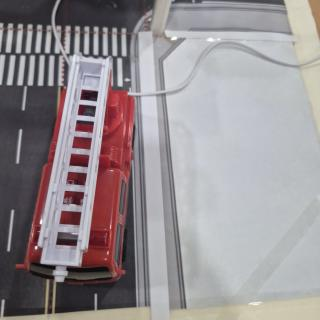Fire_truck: (16, 53, 135, 284)
